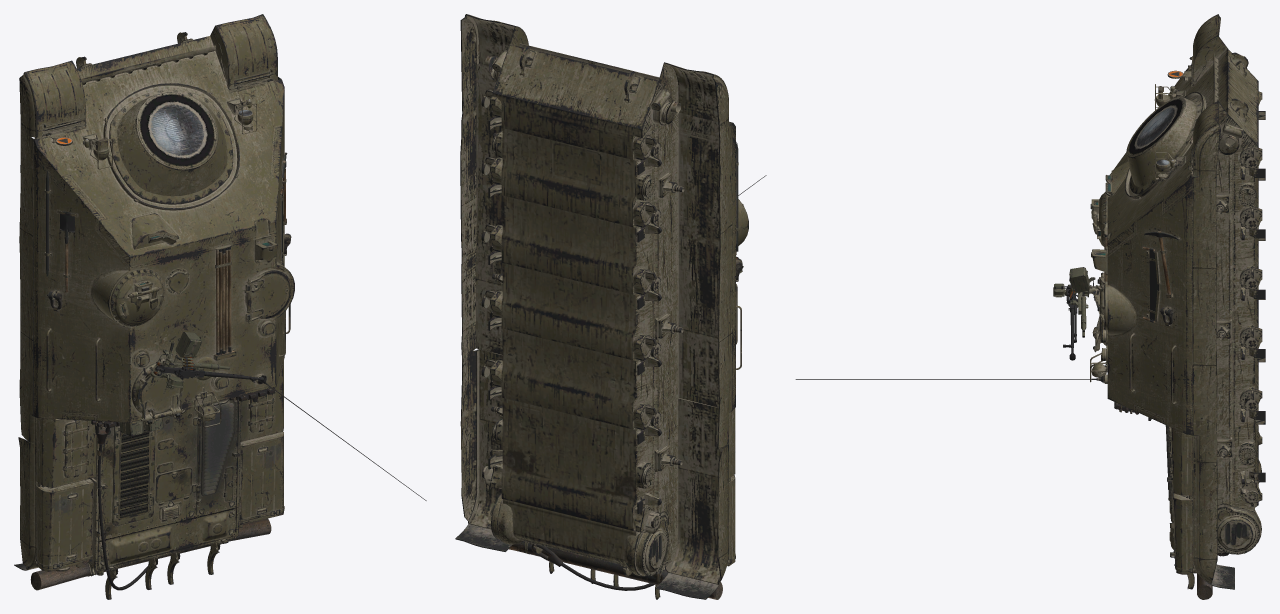
File: Hull.glb
3 views of the same model, side by side, from view 1: azimuth 30°, elevation 25°; view 2: azimuth 150°, elevation 25°; view 3: azimuth 270°, elevation 25° (orthographic). The views are drawn at different scales.
Visible parts, largest first — view 1: set_0_group_0, set_0_group_1; view 2: set_0_group_0, set_0_group_1; view 3: set_0_group_0, set_0_group_1.
Boxes of the visible parts, box(x1,y1,x2,y2) form: set_0_group_0: box(14, 14, 426, 599); set_0_group_1: box(30, 332, 271, 590); set_0_group_0: box(455, 14, 766, 599); set_0_group_1: box(509, 256, 743, 599); set_0_group_0: box(795, 14, 1265, 589); set_0_group_1: box(1053, 267, 1212, 599).
Bounding box in the file's own units: 3.5 × 7.07 × 6.06.
Materials: 2 (2 with a texture image).
